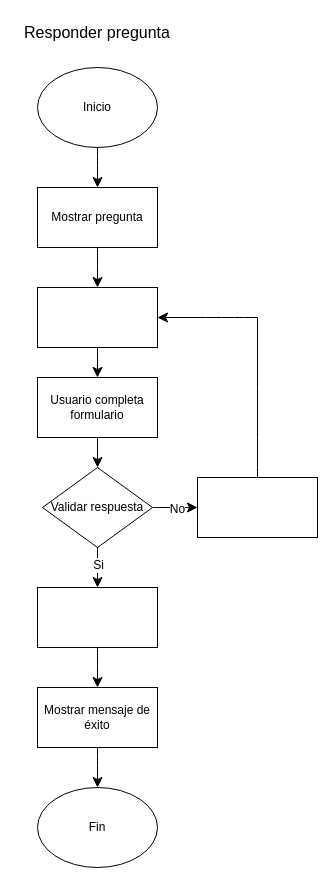
The diagram is 335 pixels wide and 885 high, and some of its shapes have lost their labels. Here are the shapes that lost their labels. From the top down, the box of each, then its label:
(36, 286, 158, 348): Mostrar formulario de respuesta
(196, 476, 318, 538): Mostrar mensaje de error
(36, 586, 158, 648): Guardar respuesta en la base de datos
